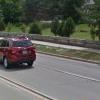Car: (3, 28, 40, 72)
